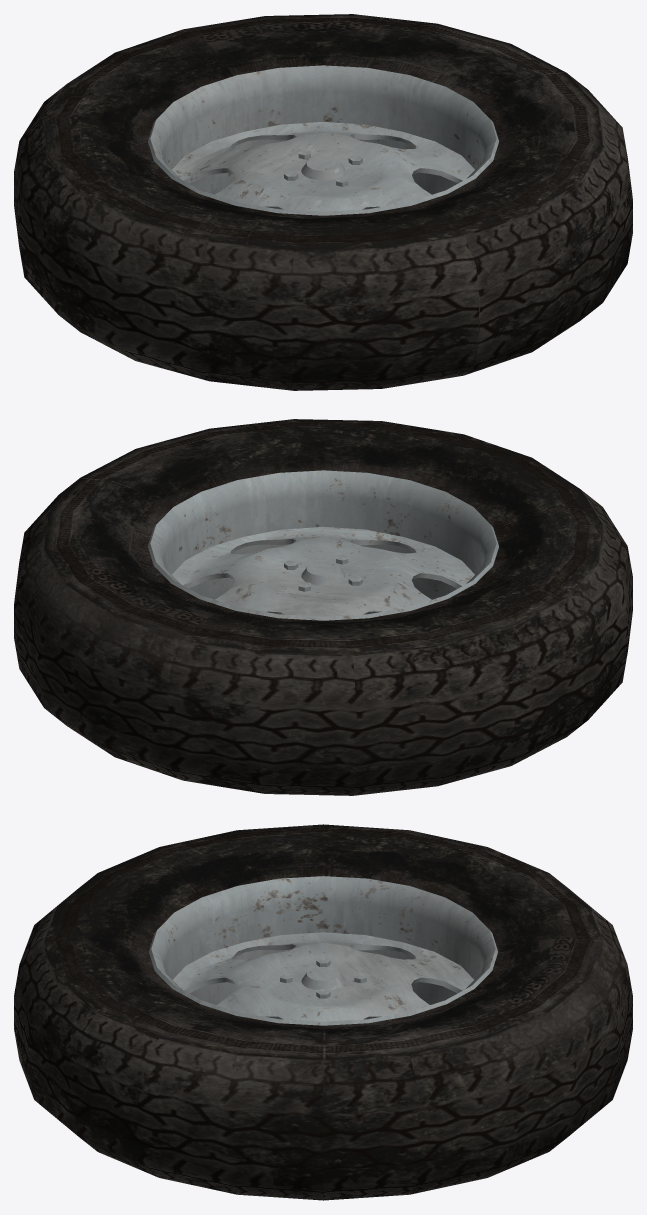
Rendered from wheel.obj.
The picture shows the model from 3 angles, top to bottom: view 1: azimuth 30°, elevation 25°; view 2: azimuth 150°, elevation 25°; view 3: azimuth 270°, elevation 25°; orthographic projection.
Parts seen in each view (by area): view 1: wheel.002; view 2: wheel.002; view 3: wheel.002.
Part boxes in pixels (bbox=[...]): wheel.002: bbox=[14, 14, 632, 390]; wheel.002: bbox=[14, 419, 632, 795]; wheel.002: bbox=[14, 824, 632, 1200].
Bounding box in the file's own units: 0.6 × 0.16 × 0.6.
2 materials, 2 textured.
